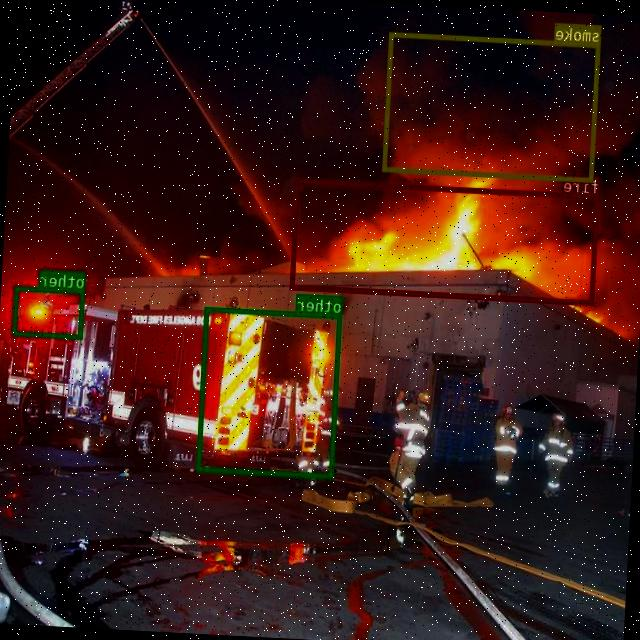fire: (292, 178, 600, 305)
smoke: (384, 32, 602, 182)
